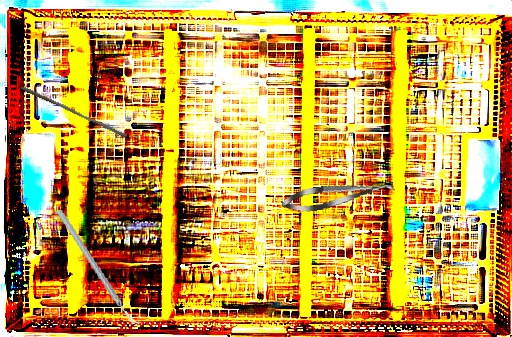Chopper: (55, 199, 143, 336)
Micro Scissor: (279, 175, 397, 216)
Pusher: (18, 85, 129, 139)
